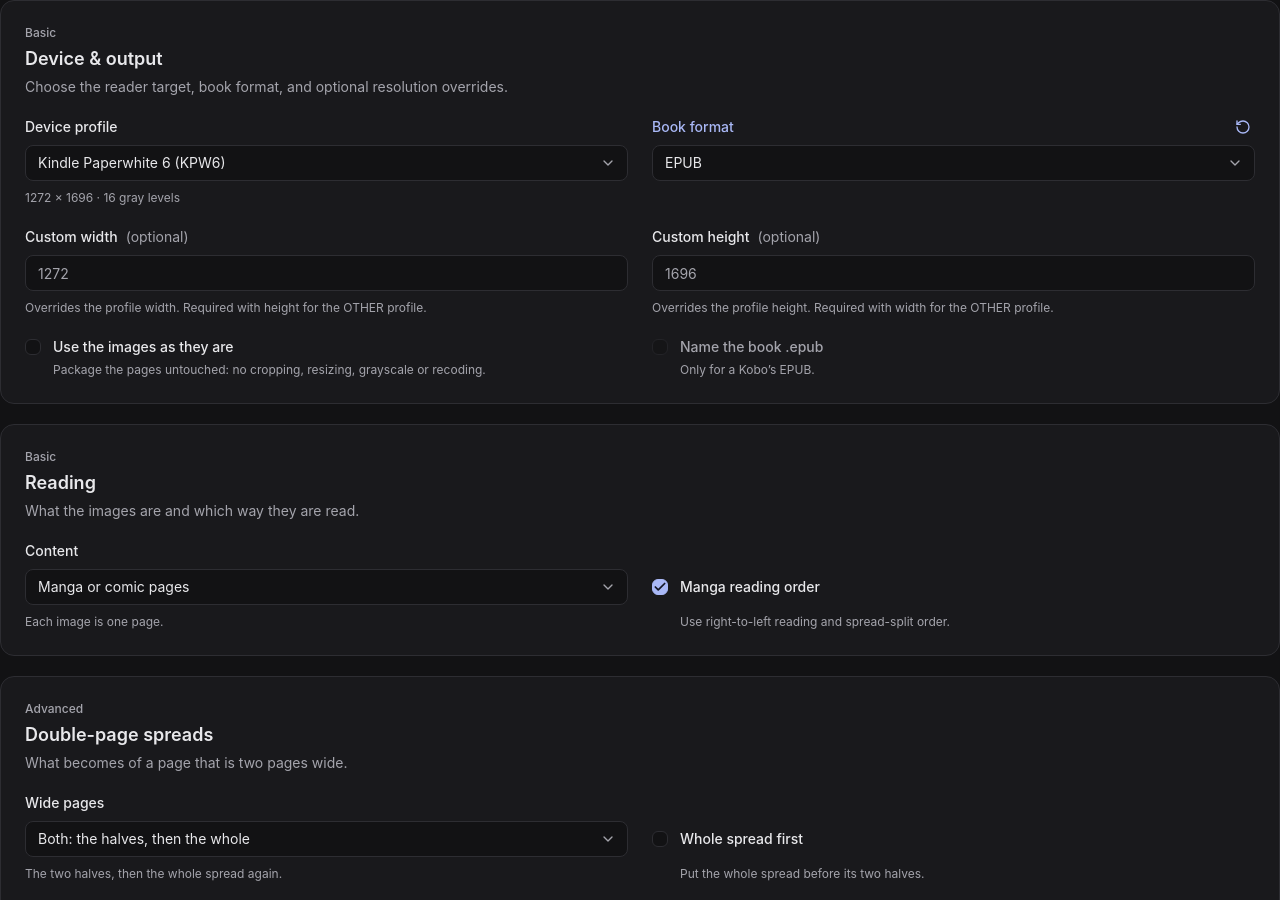
Test case: mangaprep settings editor › locks what webtoon strips never use, and leaves cropping between panels
Check: the text "Each image is one page." is shown, box top-left (25, 614), bottom-right (164, 629)
Select "Webtoon strips" in the dropdown labelled "Content" at x=326, y=587, box top-left (25, 569), bottom-right (628, 605)
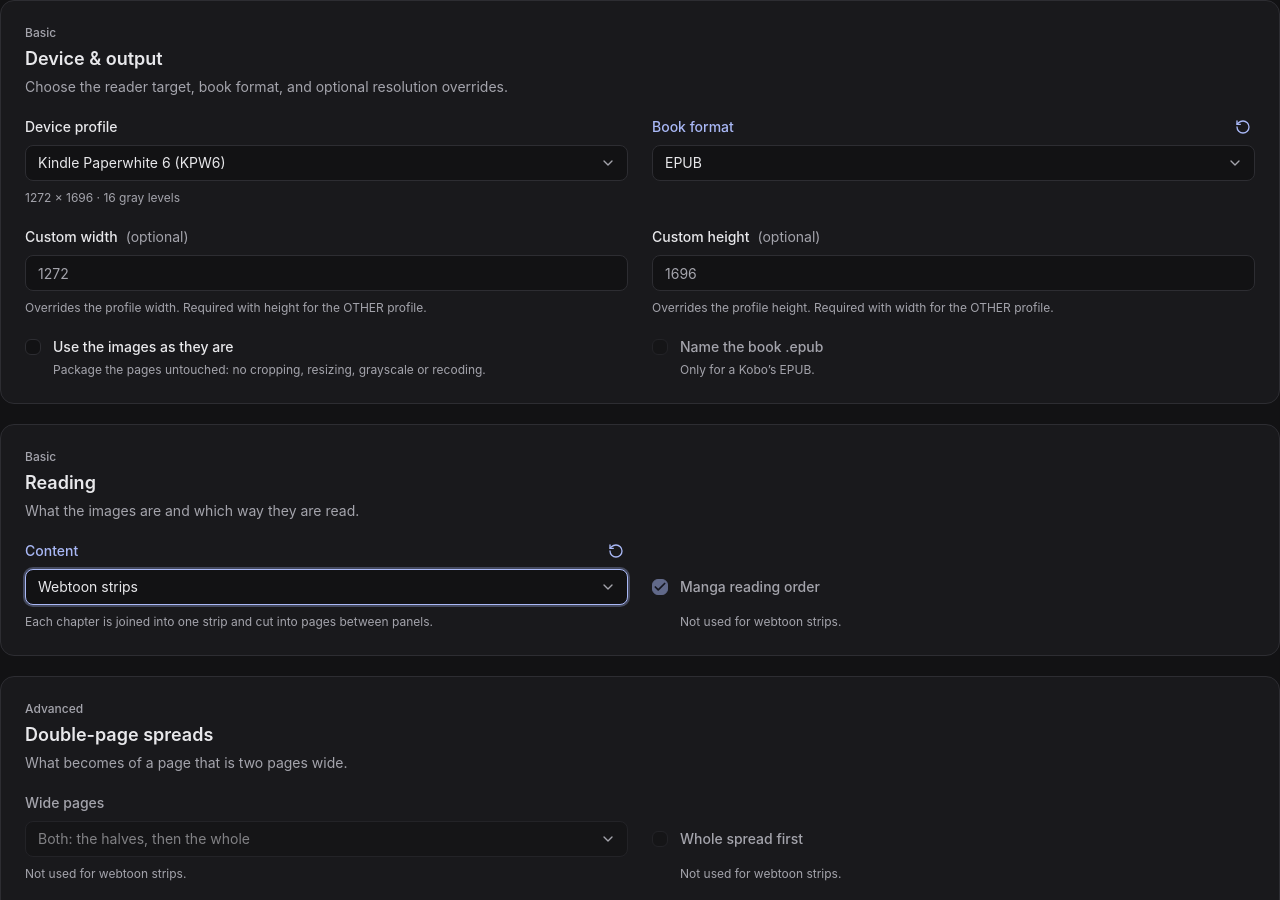
Check: the text "Each chapter is joined into one strip and cut into pages between panels." is shown, box top-left (25, 614), bottom-right (433, 629)
Check: the checkbox named "Manga reading order" next to "Manga reading order" is disabled, box top-left (652, 579), bottom-right (668, 595)
Check: the dropdown labelled "Wide pages" is disabled, box top-left (25, 821), bottom-right (628, 857)
Click the button named "Restore default for Content".
click(616, 551)  # box top-left (604, 539), bottom-right (628, 563)
(page scrolled)
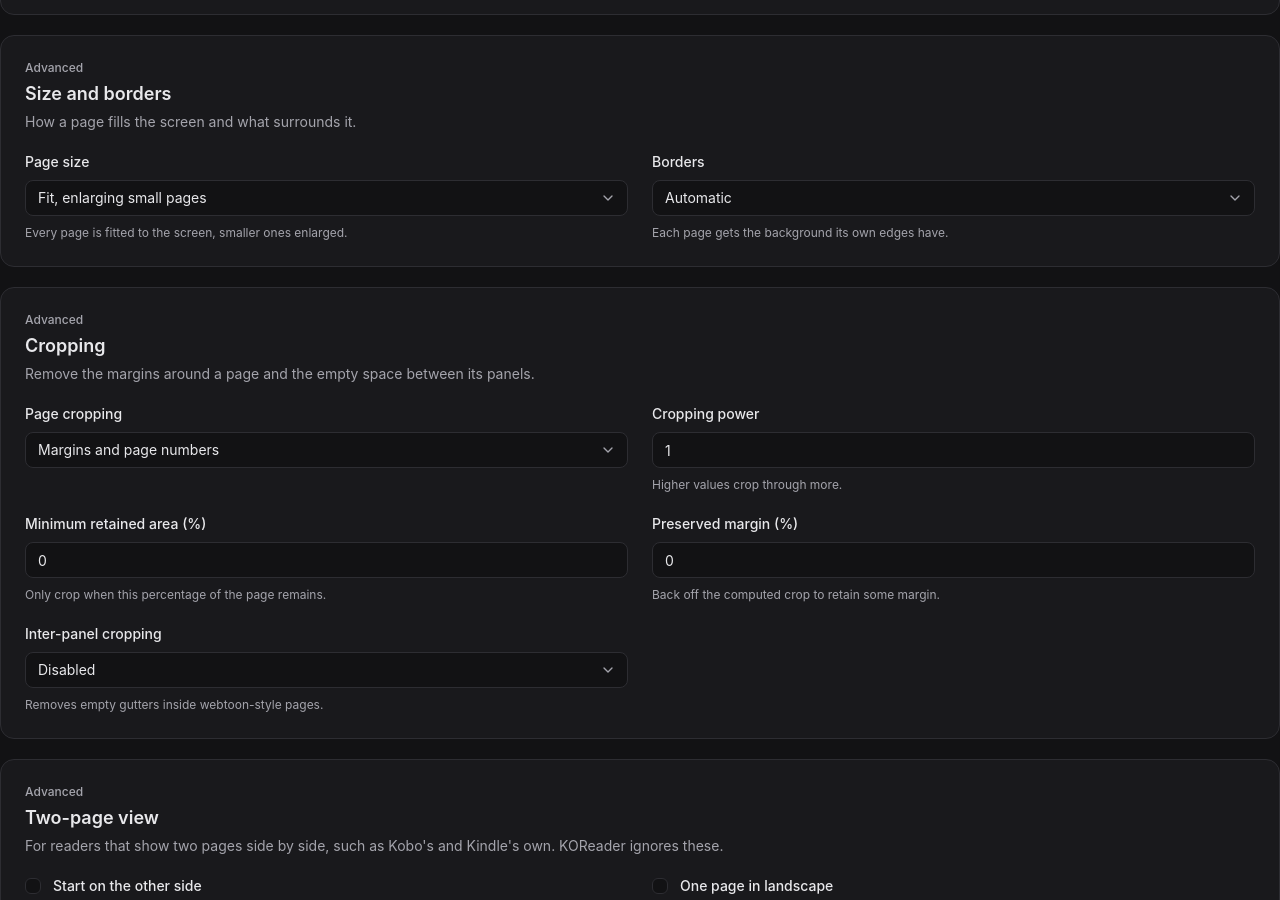
Check: the dropdown labelled "Page cropping" is enabled, box top-left (25, 432), bottom-right (628, 468)
